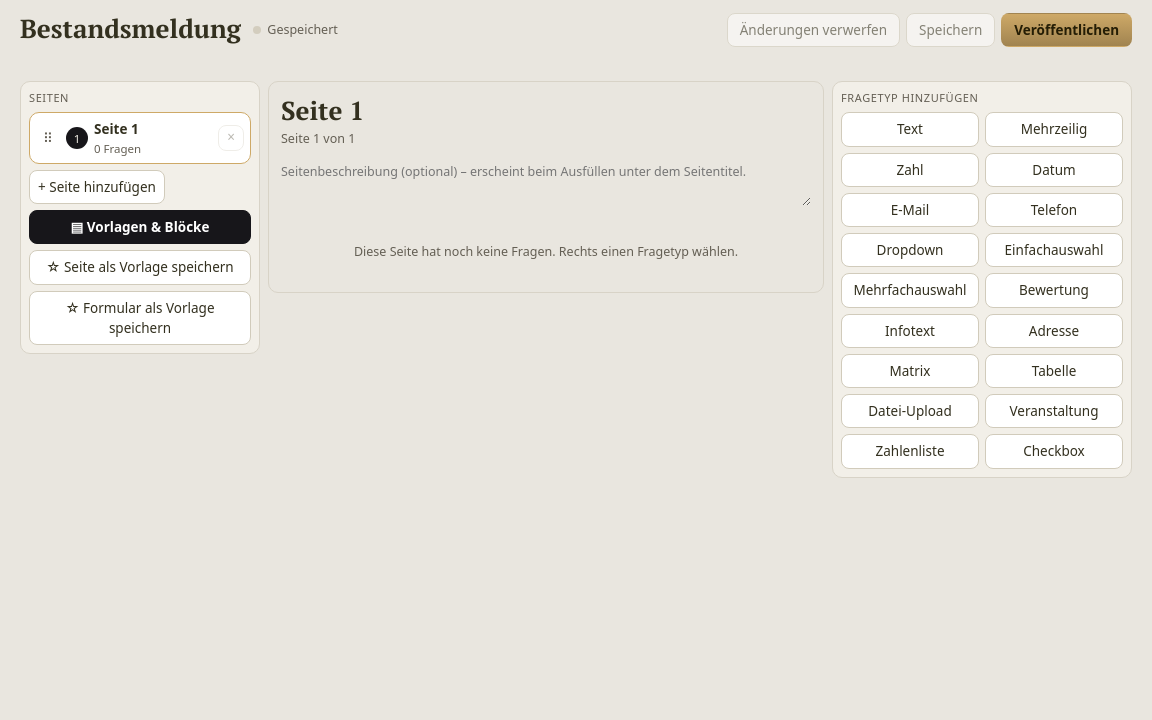
Scenario: Vorlagen im Builder › sagt es, wenn noch keine Vorlage gespeichert wurde — ein leeres Fach ist kein Fehler
Expected: the field named "Formularname" is shown, [20,12,241,48]
What coordinates should you click on to do the following:
click the button "▤ Vorlagen & Blöcke"
I would click on:
 (140, 227)
Its box is [29,210,251,244].
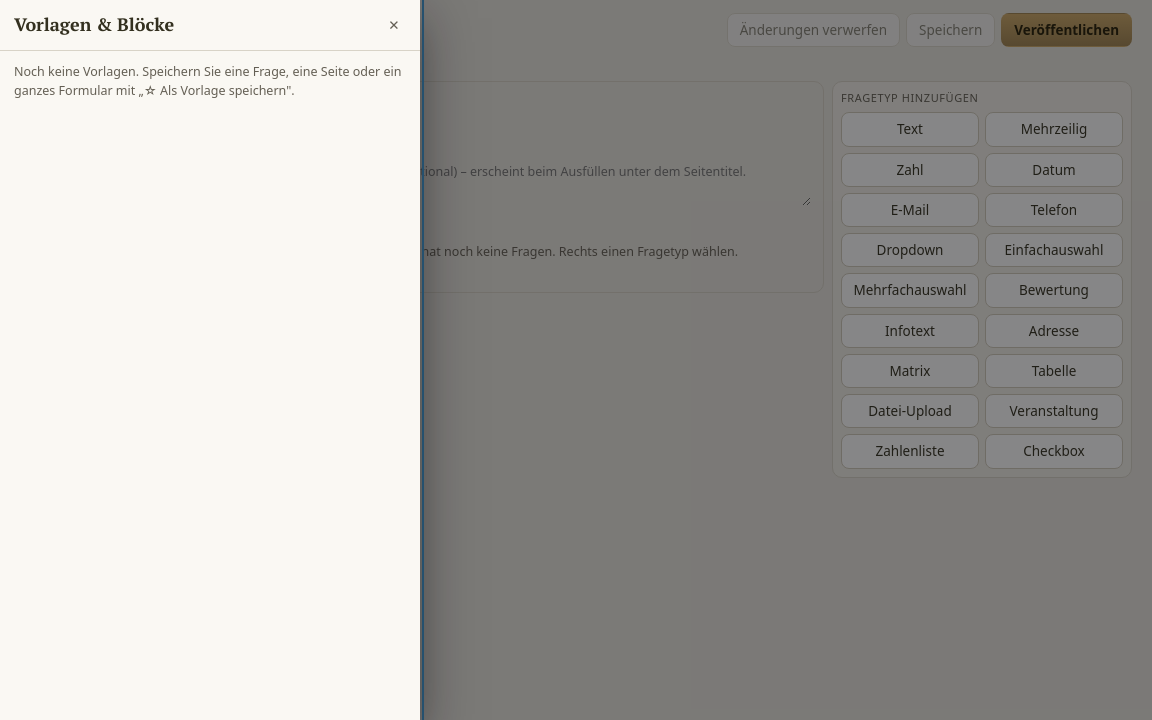
Now the text "Noch keine Vorlagen" is shown, box [14,63,401,99]
